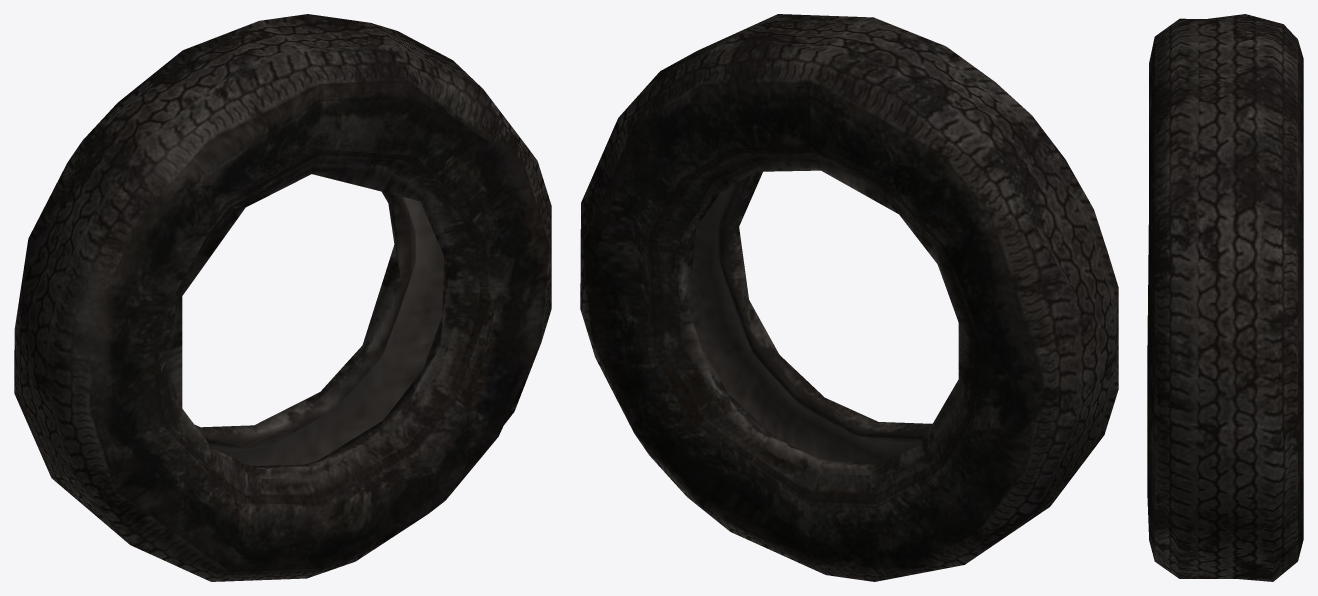
The model's file is old_tyre.glb.
The picture shows the model from 3 angles, left to right: view 1: azimuth 30°, elevation 25°; view 2: azimuth 150°, elevation 25°; view 3: azimuth 270°, elevation 25°; orthographic projection.
Size of the model in its own units: 0.5986 by 0.5945 by 0.1628.
Materials: 1 (1 with a texture image).
